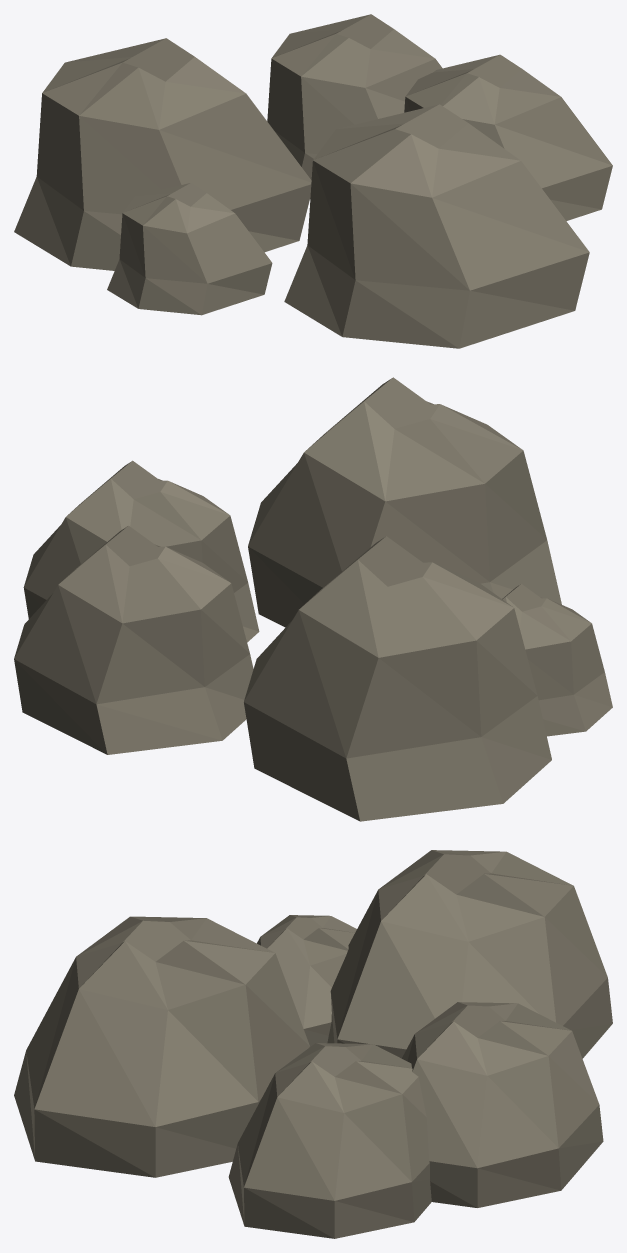
File: boulder-cluster.glb
The picture shows the model from 3 angles, top to bottom: view 1: azimuth 30°, elevation 25°; view 2: azimuth 150°, elevation 25°; view 3: azimuth 270°, elevation 25°; orthographic projection. The views are drawn at different scales.
Parts seen in each view (by area): view 1: boulder-cluster; view 2: boulder-cluster; view 3: boulder-cluster.
Part boxes in pixels (bbox=[...]): boulder-cluster: bbox=[14, 14, 612, 348]; boulder-cluster: bbox=[14, 377, 612, 821]; boulder-cluster: bbox=[14, 850, 612, 1238].
Bounding box in the file's own units: 2.89 × 0.9716 × 2.83.
